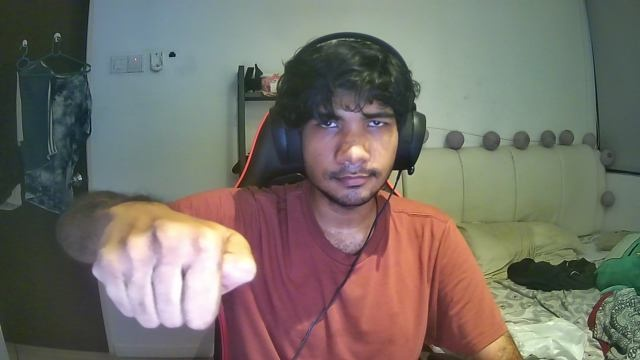Yes: (74, 218, 262, 334)
